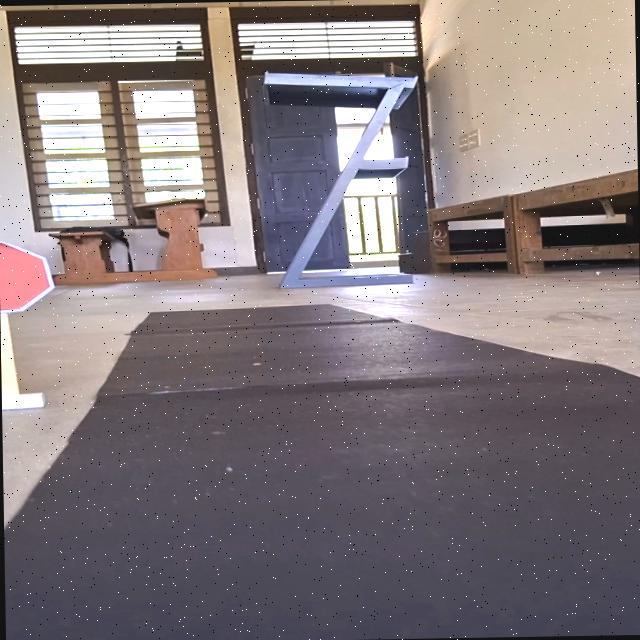Stop: (0, 235, 58, 318)
